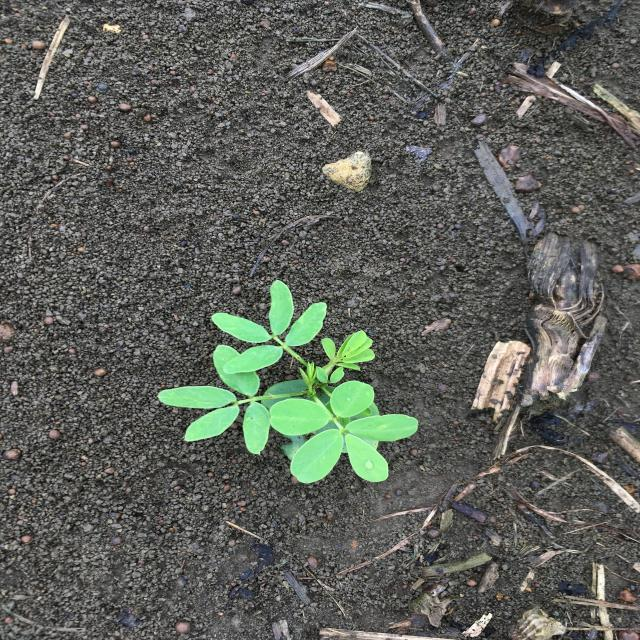Sicklepod: (158, 280, 418, 483)
